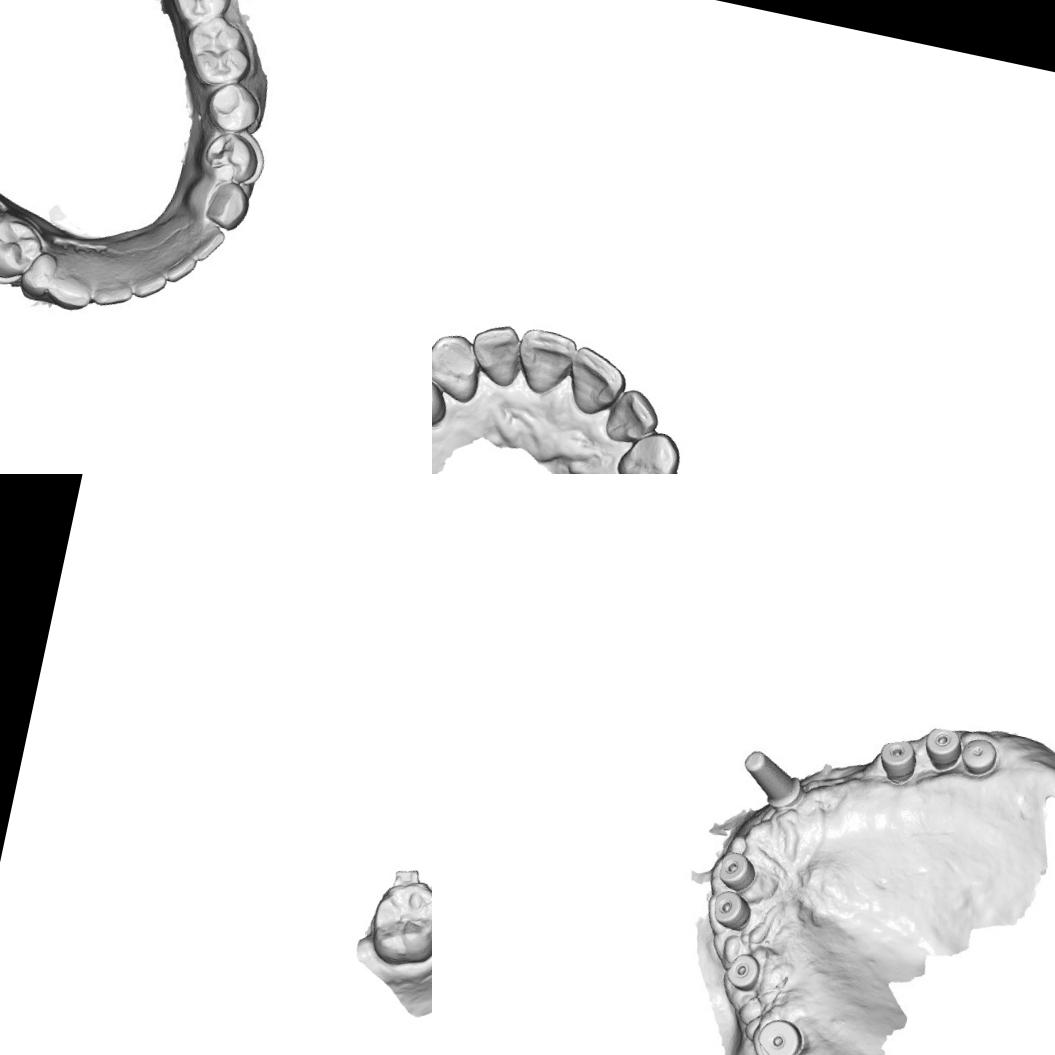abutment: (730, 746, 809, 814)
canine: (432, 327, 489, 406), (611, 423, 687, 474), (196, 175, 256, 230), (46, 259, 95, 315)
implant: (704, 889, 758, 936), (718, 947, 770, 994), (752, 1014, 807, 1055), (875, 731, 919, 781), (711, 848, 754, 894), (958, 736, 997, 776), (920, 728, 958, 764)
incisor: (508, 324, 582, 402), (562, 342, 634, 422), (464, 317, 528, 390), (601, 383, 666, 450), (122, 255, 176, 310), (88, 256, 138, 314), (153, 242, 208, 294), (182, 216, 232, 267)
inlay: (204, 132, 252, 181)
molar: (361, 872, 432, 975), (179, 14, 257, 92), (164, 0, 234, 29)
premolar: (0, 212, 47, 288), (204, 80, 265, 137), (432, 352, 455, 433)
